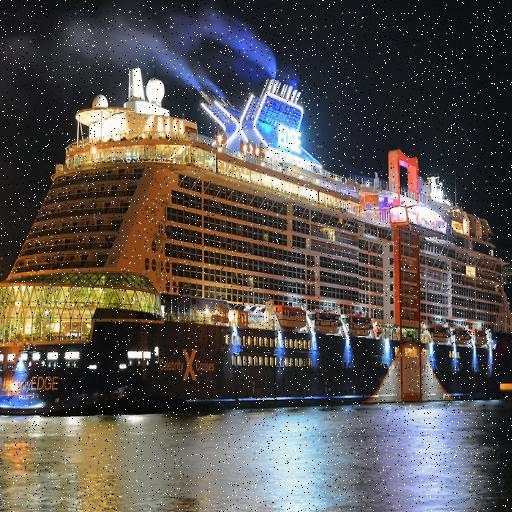cruises: (1, 61, 512, 413)
